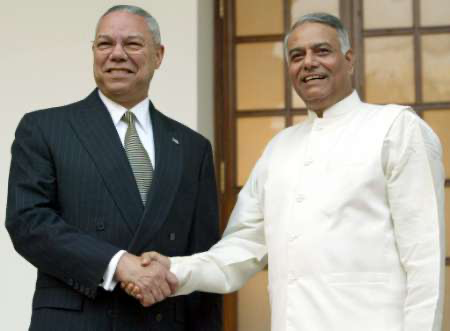Face: (85, 18, 154, 95), (285, 36, 343, 102)
